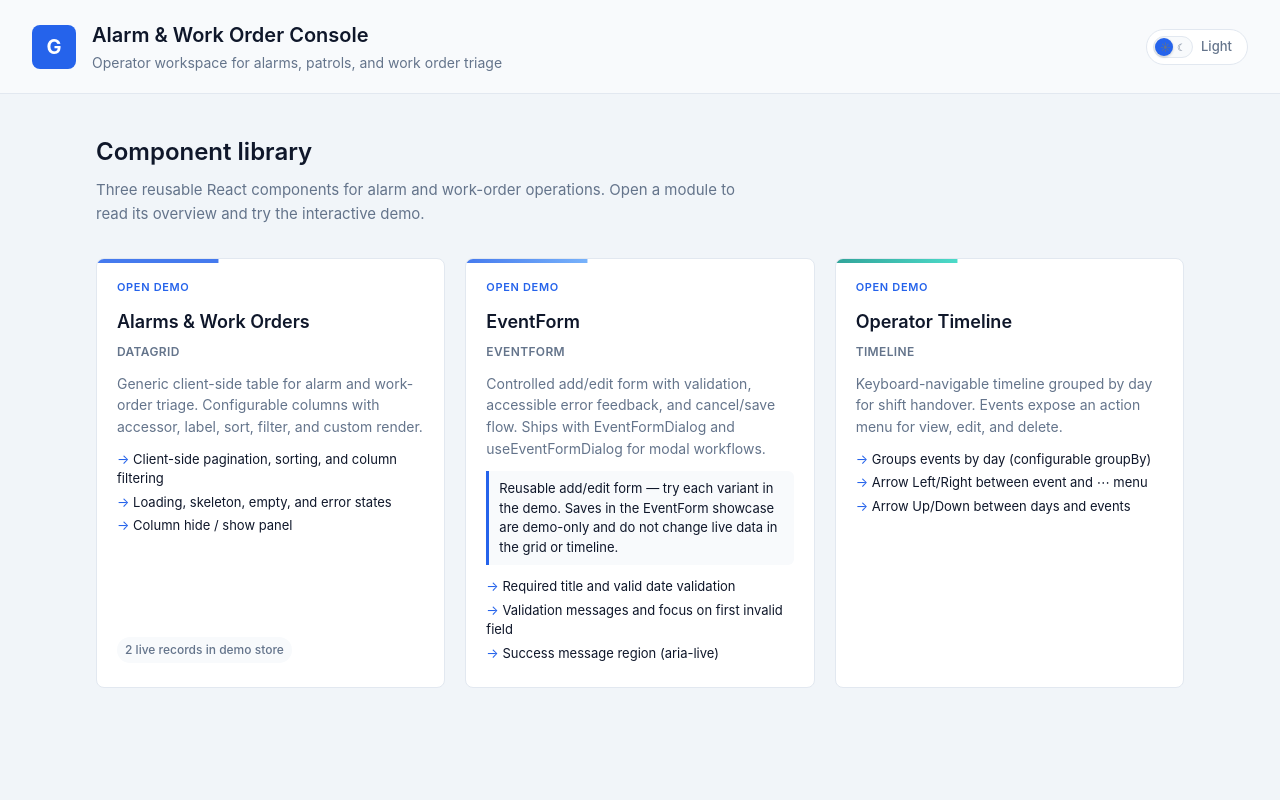
Test: App › opens the detail drawer from the timeline View details action
This screenshot has width=1280, height=800.
Expected: the element with class "home__grid" is shown, top-left (96, 258), bottom-right (1184, 688)
Step 1. Click the button "Operator Timeline" → (1009, 473), box top-left (835, 258), bottom-right (1184, 688)
(page scrolled)
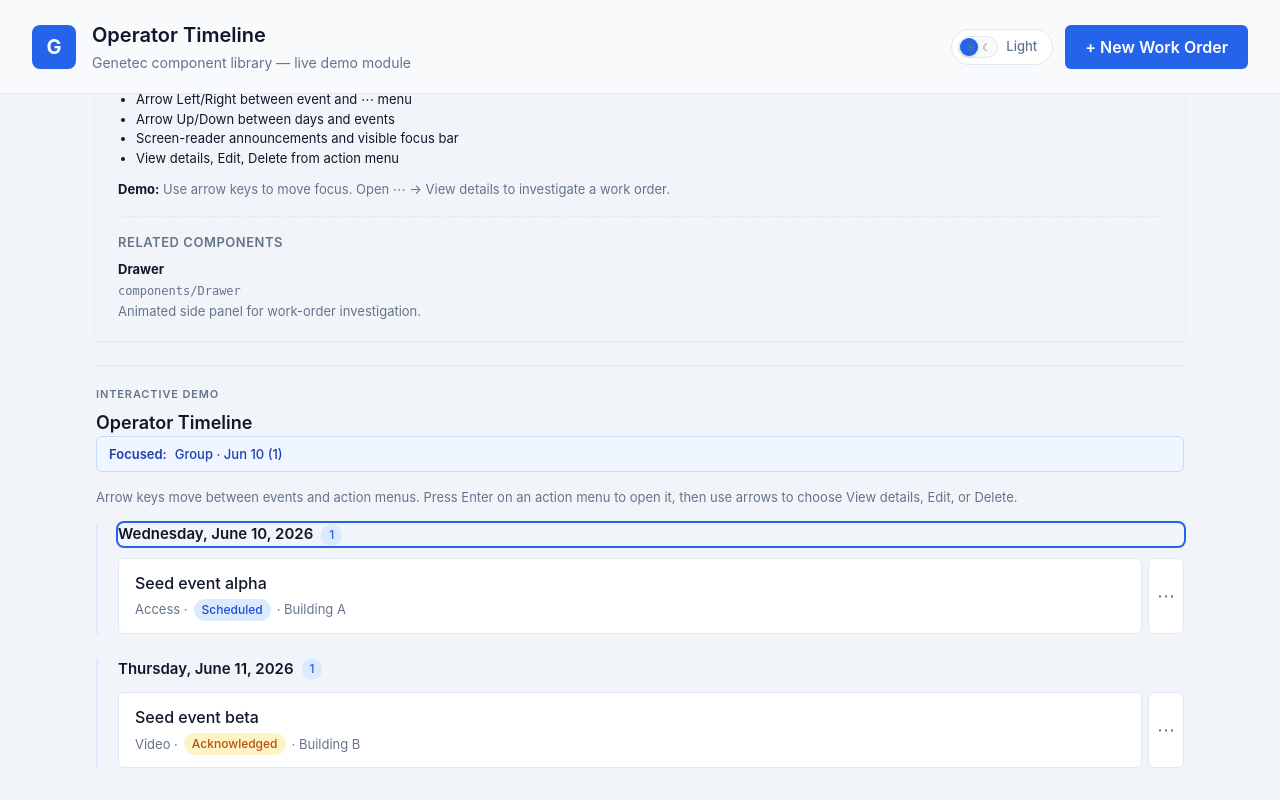
Step 2. Click the button named "Actions for Seed event beta" → (1166, 730), box top-left (1148, 692), bottom-right (1184, 768)
(page scrolled)
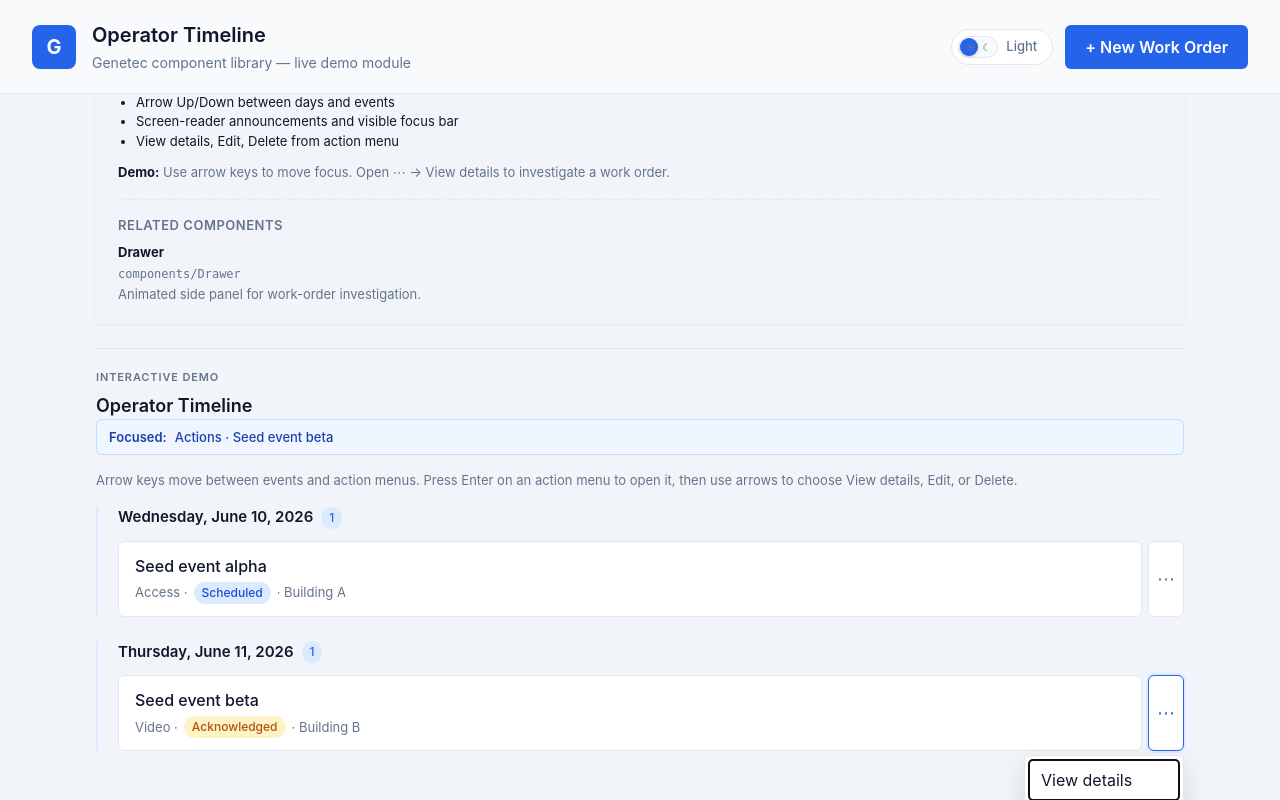
Step 3. Click the menu item "View details" → (1104, 780), box top-left (1029, 760), bottom-right (1179, 799)
(page scrolled)
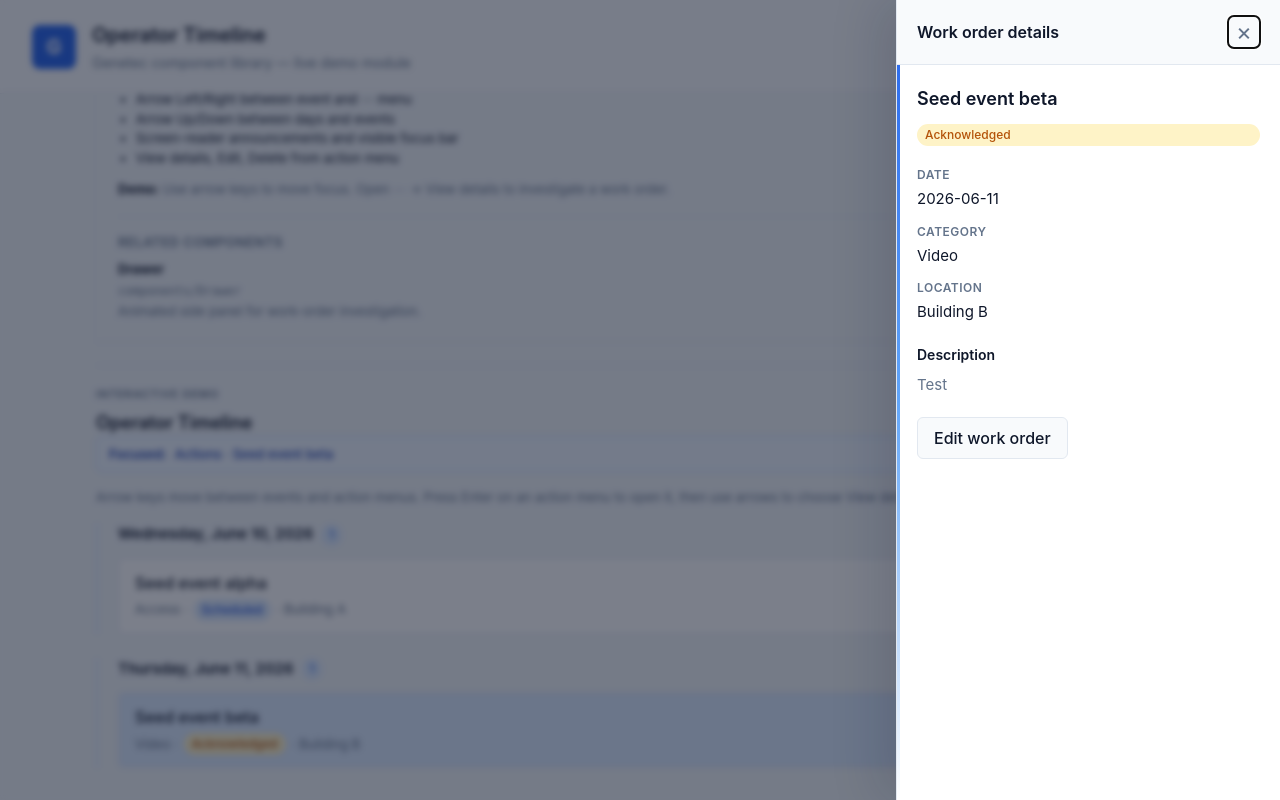
Now the text "Acknowledged" is shown, box top-left (917, 124), bottom-right (1260, 146)
